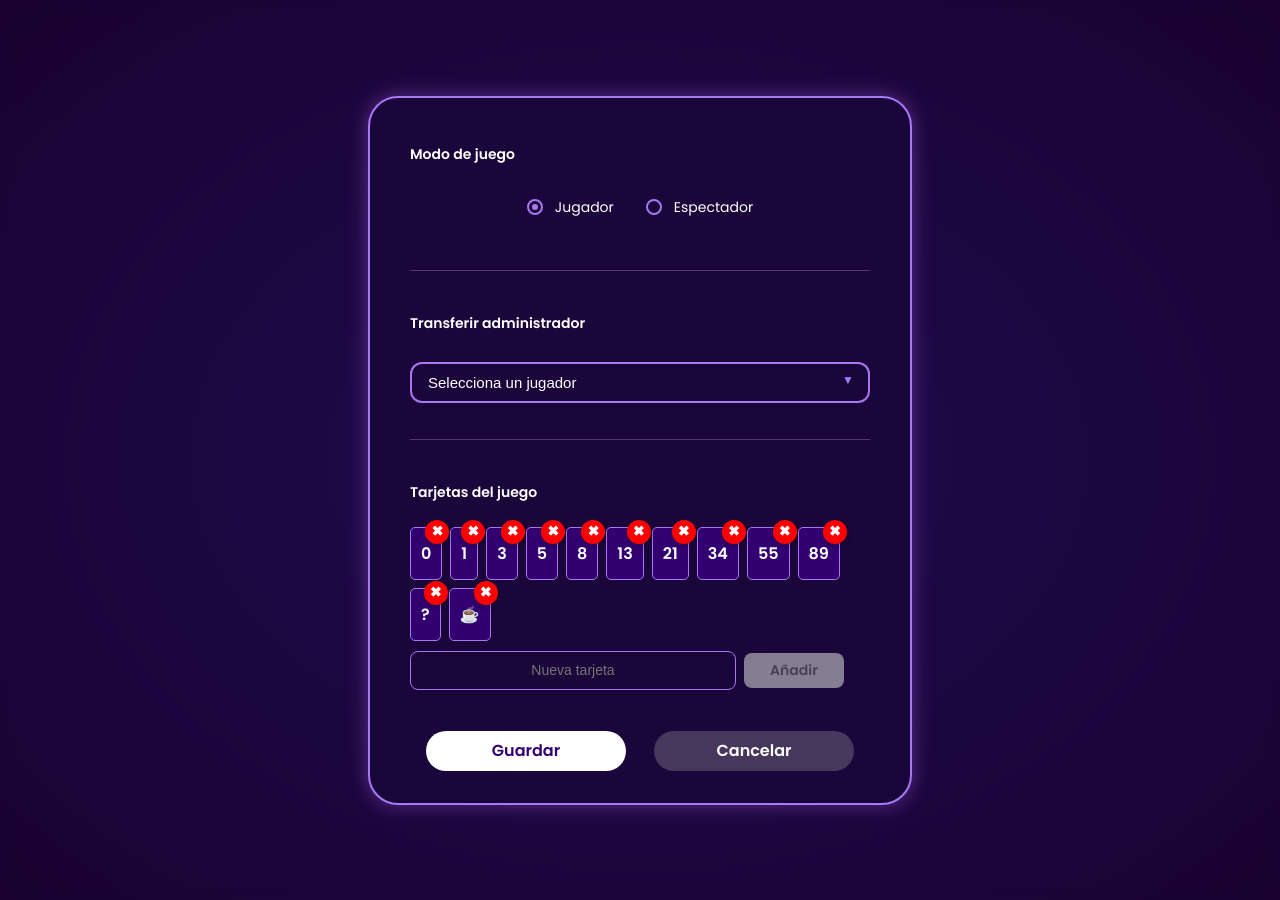
ModalUserSettings › debe mostrar error al añadir una tarjeta duplicada
The image size is (1280, 900).
Type "5" into the field with placeholder "Nueva tarjeta".
click(573, 670); type("5")  # box 410,650 -> 736,690
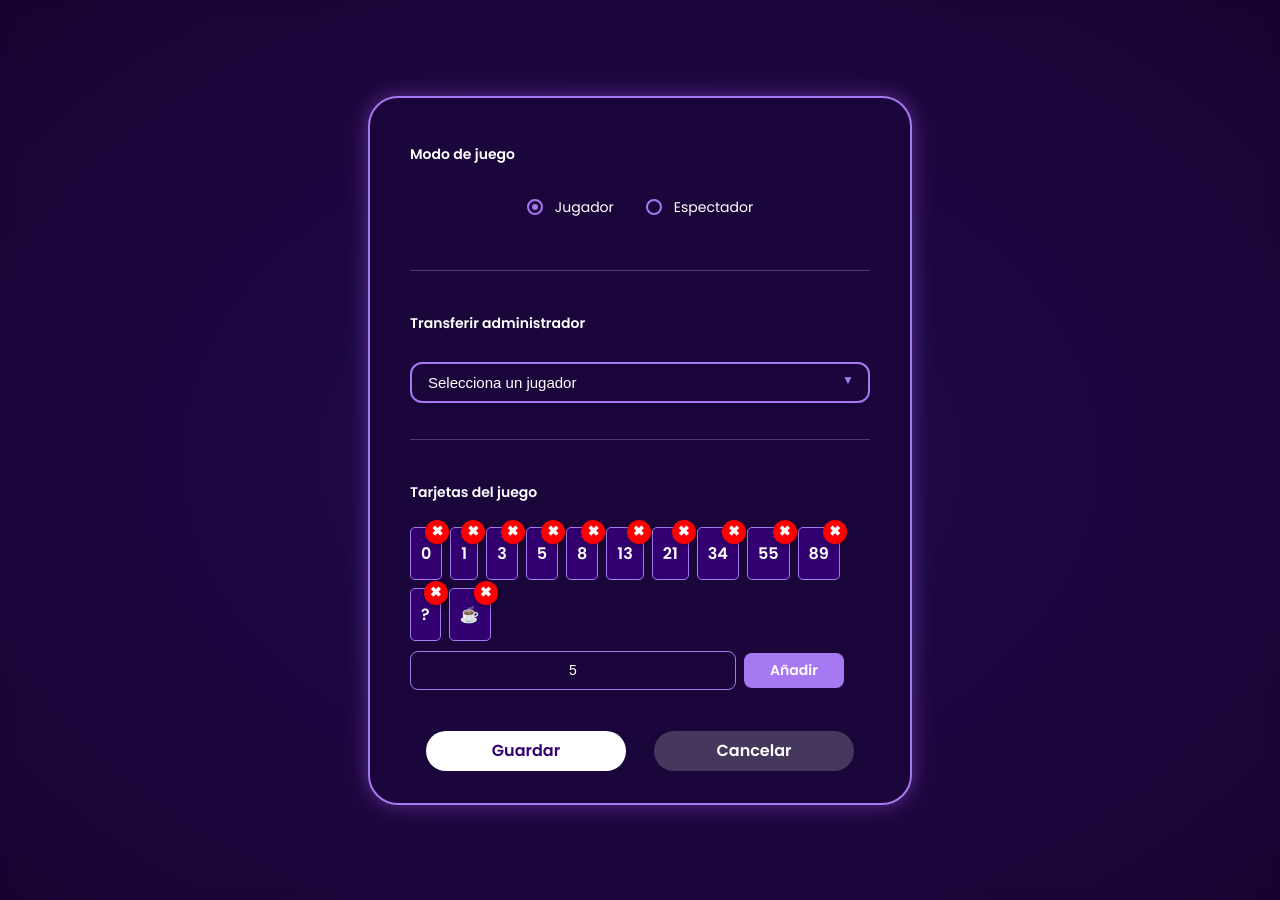
Click the button "Añadir".
click(794, 670)  # box 744,652 -> 844,688
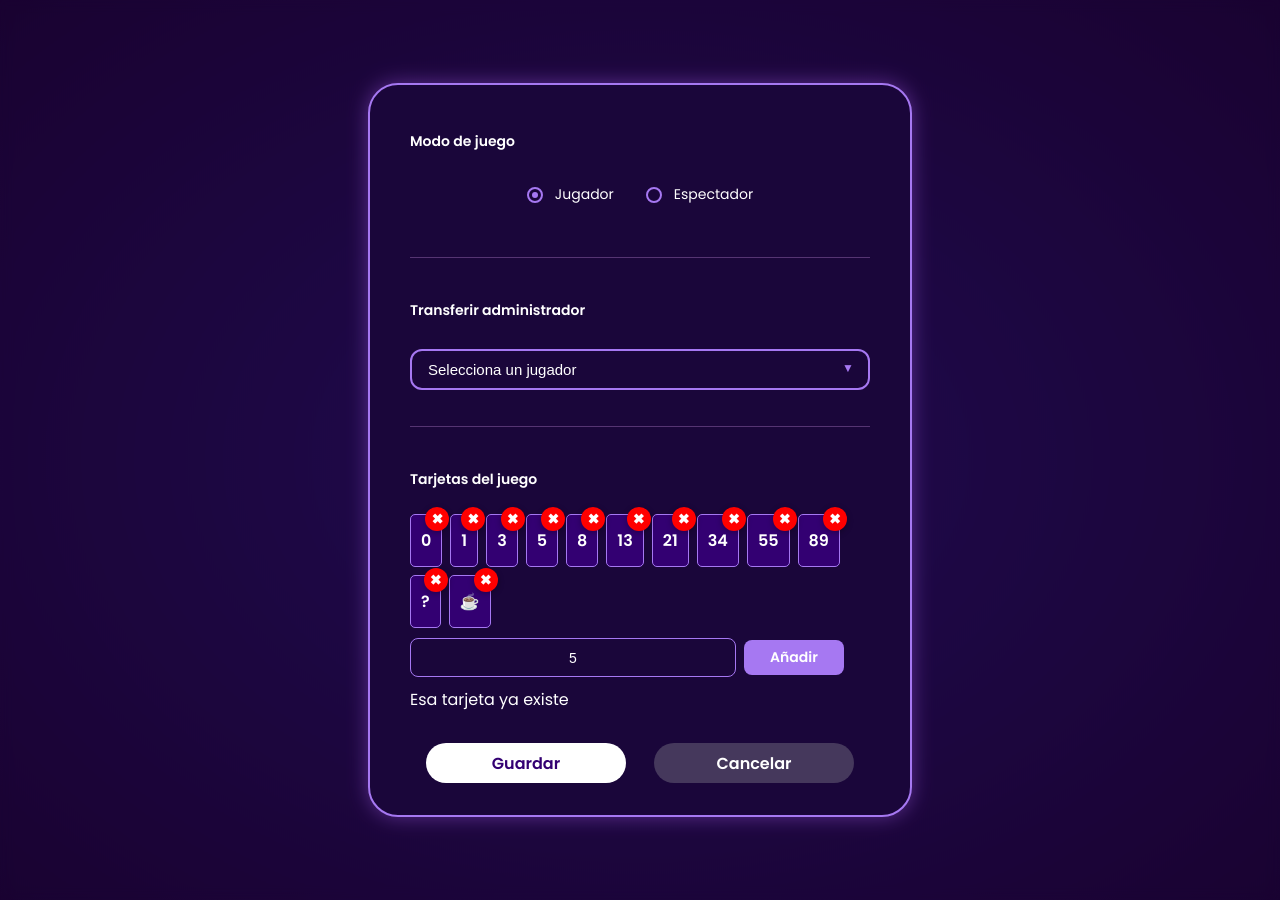
Now the text "Esa tarjeta ya existe" is shown, box 410,688 -> 569,711
